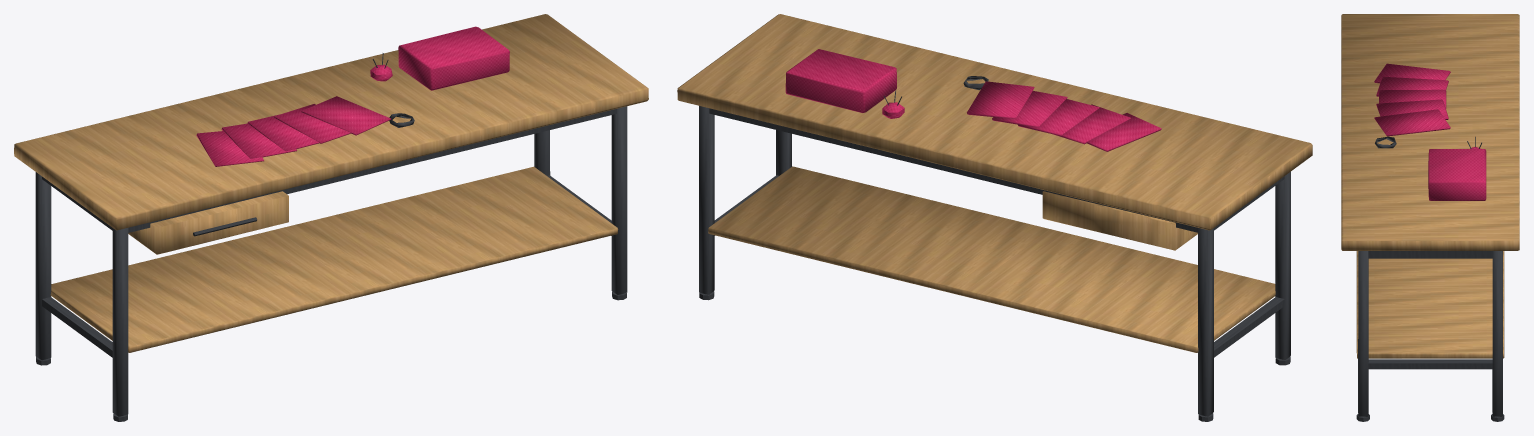
File: bancada-24-leve.glb
3 renders of one model, left to right at view 1: azimuth 30°, elevation 25°; view 2: azimuth 150°, elevation 25°; view 3: azimuth 270°, elevation 25°, orthographic. The views are drawn at different scales.
Parts seen in each view (by area): view 1: tampo, prateleira, caixa-de-amostras, gaveta, pe, pe.002, pe.001, longarina, amostra.004, amostra, amostra.003, amostra.001 (+3 smaller); view 2: tampo, prateleira, caixa-de-amostras, gaveta, pe.001, pe.003, pe, longarina.001, amostra.004, amostra, amostra.002, amostra.003 (+3 smaller); view 3: tampo, prateleira, caixa-de-amostras, pe.002, pe.003, amostra.004, apoio-prateleira.001, travessa-lado.001, amostra, amostra.003, amostra.002, amostra.001 (+1 smaller).
Part boxes in pixels (x1=…): tampo: x1=14, y1=14, x2=648, y2=230; prateleira: x1=50, y1=166, x2=618, y2=352; caixa-de-amostras: x1=398, y1=26, x2=509, y2=90; gaveta: x1=128, y1=191, x2=288, y2=254; pe: x1=112, y1=228, x2=128, y2=416; pe.002: x1=611, y1=106, x2=627, y2=294; pe.001: x1=35, y1=172, x2=51, y2=360; longarina: x1=128, y1=109, x2=616, y2=232; amostra.004: x1=301, y1=96, x2=391, y2=135; amostra: x1=196, y1=131, x2=263, y2=166; amostra.003: x1=274, y1=104, x2=350, y2=143; amostra.001: x1=221, y1=123, x2=296, y2=158; tampo: x1=677, y1=14, x2=1312, y2=230; prateleira: x1=708, y1=166, x2=1275, y2=352; caixa-de-amostras: x1=785, y1=49, x2=896, y2=112; gaveta: x1=1042, y1=191, x2=1197, y2=250; pe.001: x1=1198, y1=228, x2=1213, y2=416; pe.003: x1=699, y1=106, x2=714, y2=294; pe: x1=1275, y1=171, x2=1290, y2=359; longarina.001: x1=709, y1=108, x2=1197, y2=232; amostra.004: x1=967, y1=81, x2=1034, y2=118; amostra: x1=1087, y1=113, x2=1161, y2=151; amostra.002: x1=1017, y1=99, x2=1099, y2=136; amostra.003: x1=992, y1=91, x2=1067, y2=127; tampo: x1=1341, y1=14, x2=1519, y2=250; prateleira: x1=1356, y1=251, x2=1504, y2=358; caixa-de-amostras: x1=1428, y1=149, x2=1486, y2=200; pe.002: x1=1358, y1=251, x2=1368, y2=416; pe.003: x1=1492, y1=251, x2=1502, y2=416; amostra.004: x1=1374, y1=109, x2=1450, y2=136; apoio-prateleira.001: x1=1368, y1=359, x2=1492, y2=369; travessa-lado.001: x1=1368, y1=251, x2=1492, y2=258; amostra: x1=1374, y1=63, x2=1450, y2=83; amostra.003: x1=1376, y1=99, x2=1448, y2=119; amostra.002: x1=1379, y1=89, x2=1446, y2=108; amostra.001: x1=1376, y1=76, x2=1448, y2=96.
Size of the model in its own units: 2.4 by 1.02 by 0.7969.
3 materials, 3 textured.
